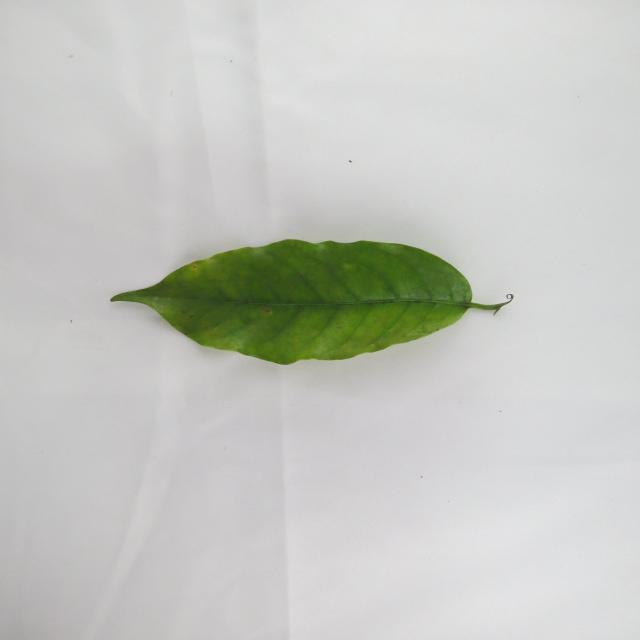DeficienciaNutricional-Manganeso: (112, 240, 513, 364)
